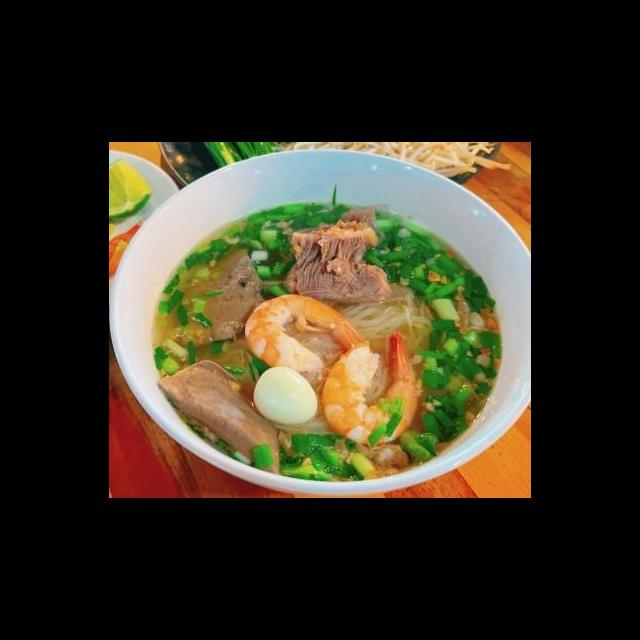banh hu tieu: (333, 279, 438, 356)
gan: (168, 242, 268, 352)
hu tieu: (109, 169, 531, 498), (282, 317, 348, 369)
thit heo: (277, 204, 397, 305)
tom: (318, 326, 426, 448), (243, 291, 371, 383)
trung: (251, 362, 321, 427)
